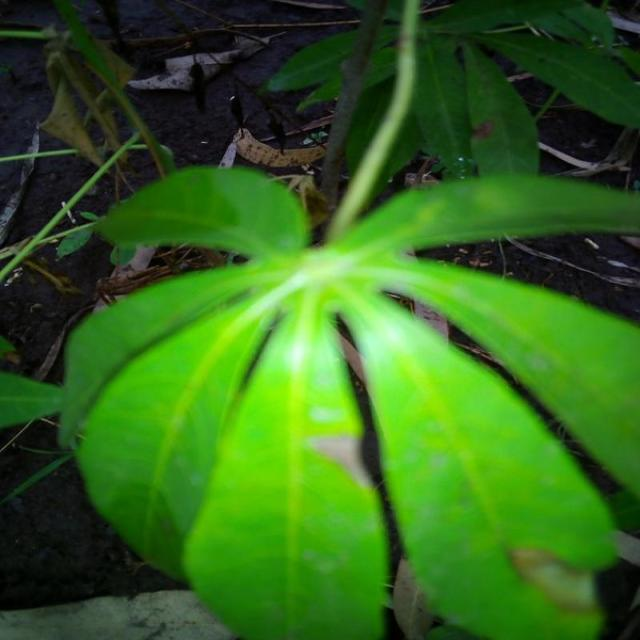cassava leaf: (57, 162, 638, 638)
